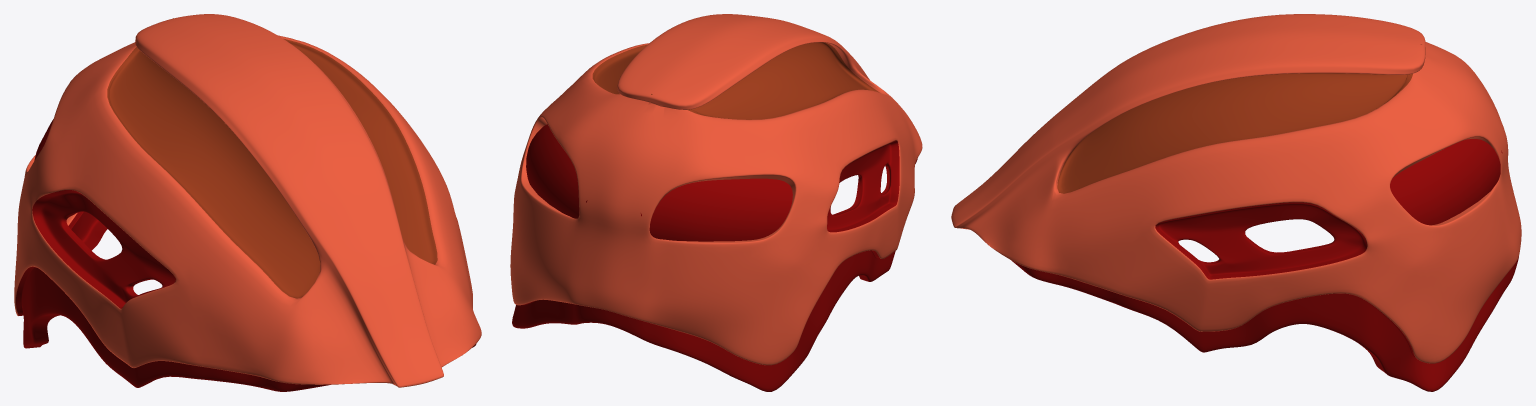
Rendered from helmet1.2.glb.
3 views of the same model, side by side, from view 1: azimuth 30°, elevation 25°; view 2: azimuth 150°, elevation 25°; view 3: azimuth 270°, elevation 25° (orthographic). The views are drawn at different scales.
Parts seen in each view (by area): view 1: helmet; view 2: helmet; view 3: helmet.
Boxes of the visible parts, left/top/right/bottom form: helmet: left=14, top=14, right=481, bottom=391; helmet: left=510, top=14, right=922, bottom=391; helmet: left=951, top=14, right=1521, bottom=391.
Bounding box in the file's own units: 0.1839 × 0.154 × 0.2713.
